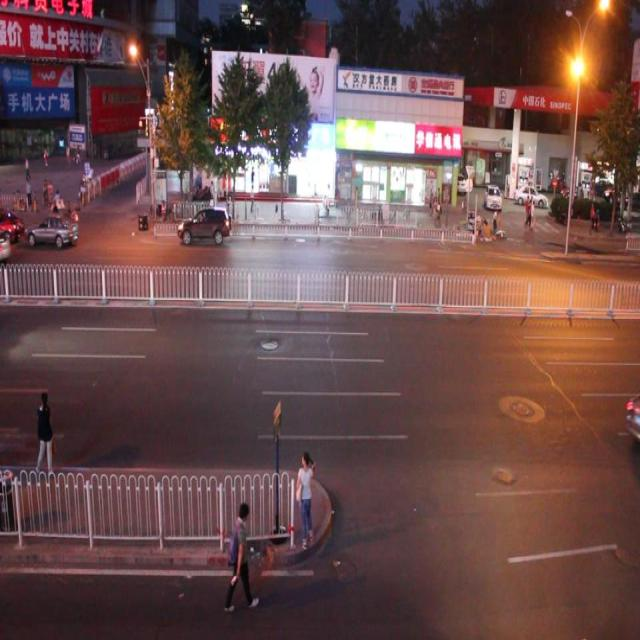car: (177, 205, 231, 245), (26, 212, 80, 251)
